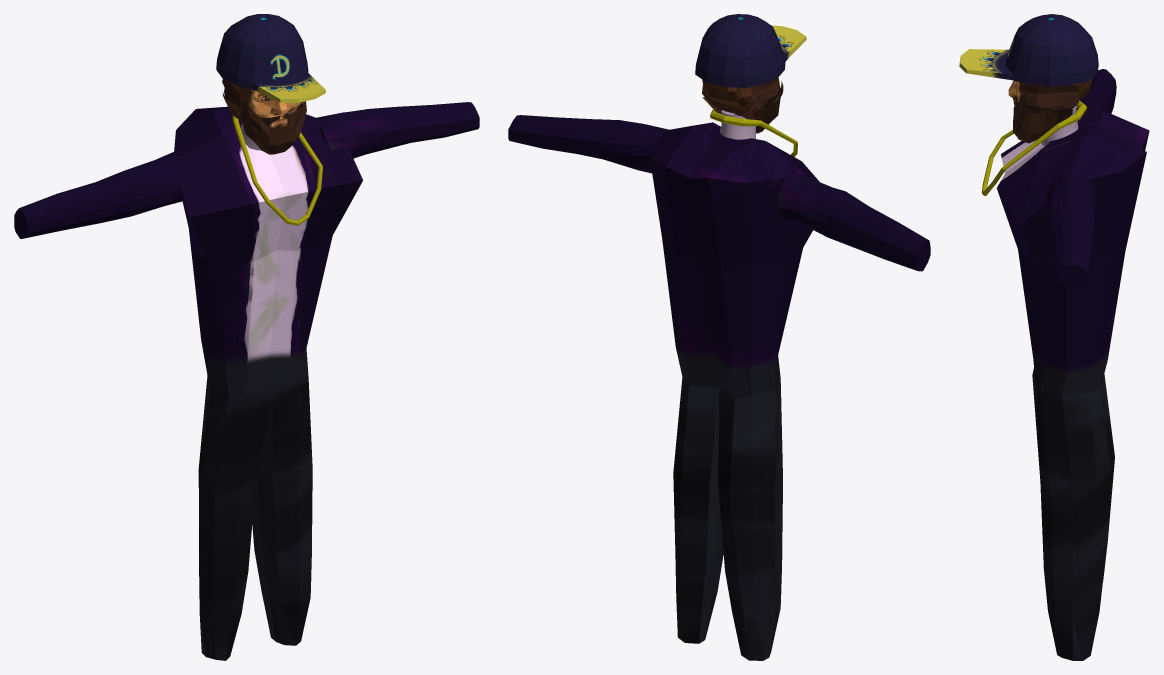
File: darsayFBX.fbx
3 renders of one model, left to right at view 1: azimuth 30°, elevation 25°; view 2: azimuth 150°, elevation 25°; view 3: azimuth 270°, elevation 25°, orthographic. The views are drawn at different scales.
Visible parts, largest first — view 1: corpo, brazos, GORRO, Plane.001, corpo.001, Torus; view 2: corpo, brazos, GORRO, corpo.001, Torus, Plane.001; view 3: corpo, GORRO, brazos, corpo.001, Plane.001, Torus, Cylinder001.
Part boxes in pixels (x1,y1,x2,y2): corpo: (173,106,362,660); brazos: (14,102,479,238); GORRO: (216,14,325,102); Plane.001: (222,92,306,154); corpo.001: (222,79,302,127); Torus: (232,115,322,225); corpo: (649,122,819,660); brazos: (508,115,930,271); GORRO: (695,14,806,87); corpo.001: (702,77,781,116); Torus: (710,109,797,156); Plane.001: (702,80,783,133); corpo: (996,110,1149,660); GORRO: (959,14,1098,86); brazos: (1046,69,1116,288); corpo.001: (1008,78,1092,114); Plane.001: (1012,94,1073,143); Torus: (981,100,1086,195); Cylinder001: (1041,106,1078,146).
Size of the model in its own units: 501 by 700 by 195.
7 materials, 5 textured.
